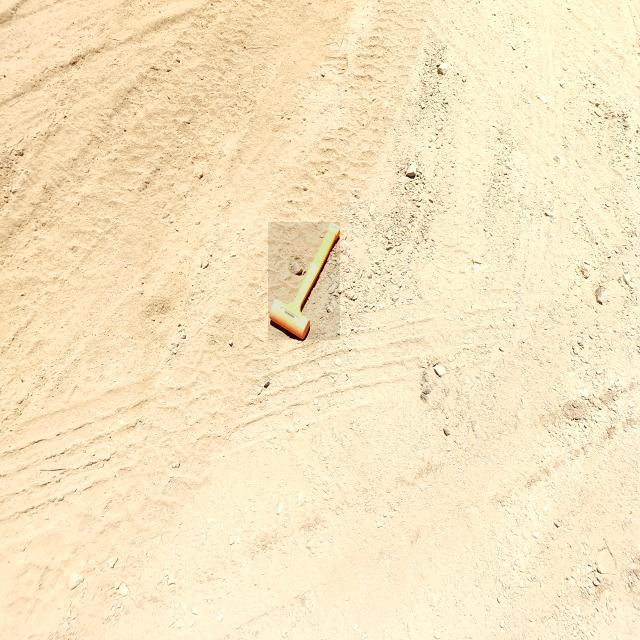Orange_hammer: (268, 222, 340, 340)
